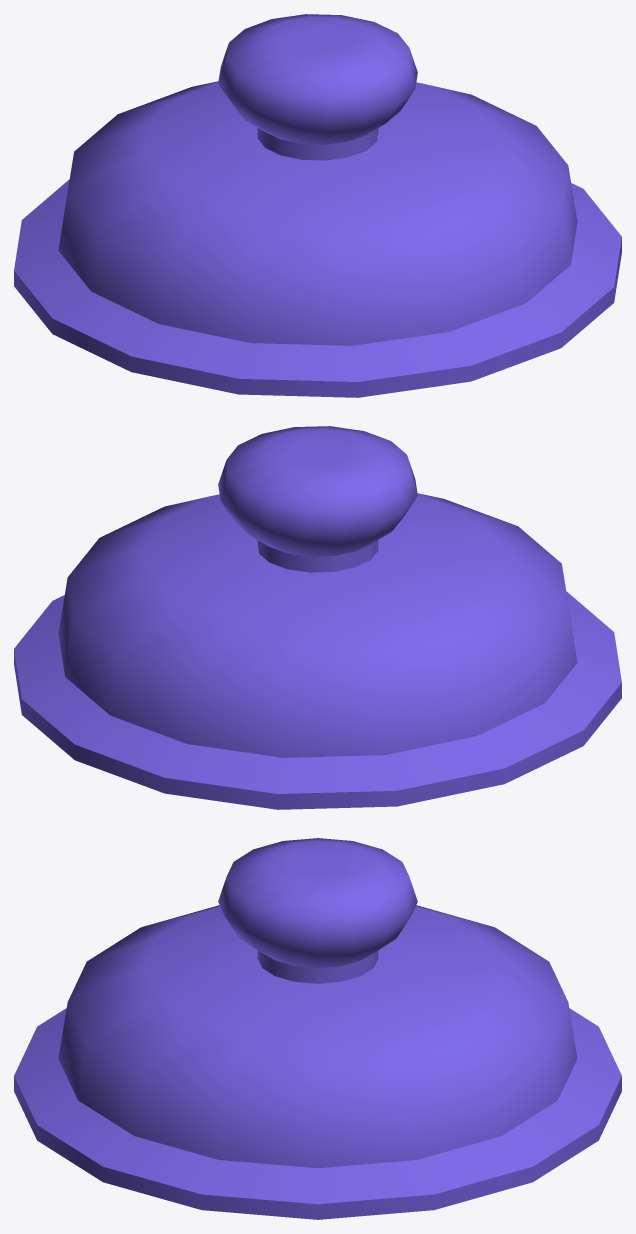
Rendered from Food_BarleyLid.fbx.
3 views of the same model, one above another, from view 1: azimuth 30°, elevation 25°; view 2: azimuth 150°, elevation 25°; view 3: azimuth 270°, elevation 25° (orthographic).
Visible parts, largest first — view 1: BraleyCLid; view 2: BraleyCLid; view 3: BraleyCLid.
Boxes of the visible parts, x1,y1,x2,y2 form: BraleyCLid: (14, 14, 621, 397); BraleyCLid: (14, 426, 621, 809); BraleyCLid: (14, 838, 621, 1219).
Size of the model in its own units: 10.27 by 4.24 by 10.27.
